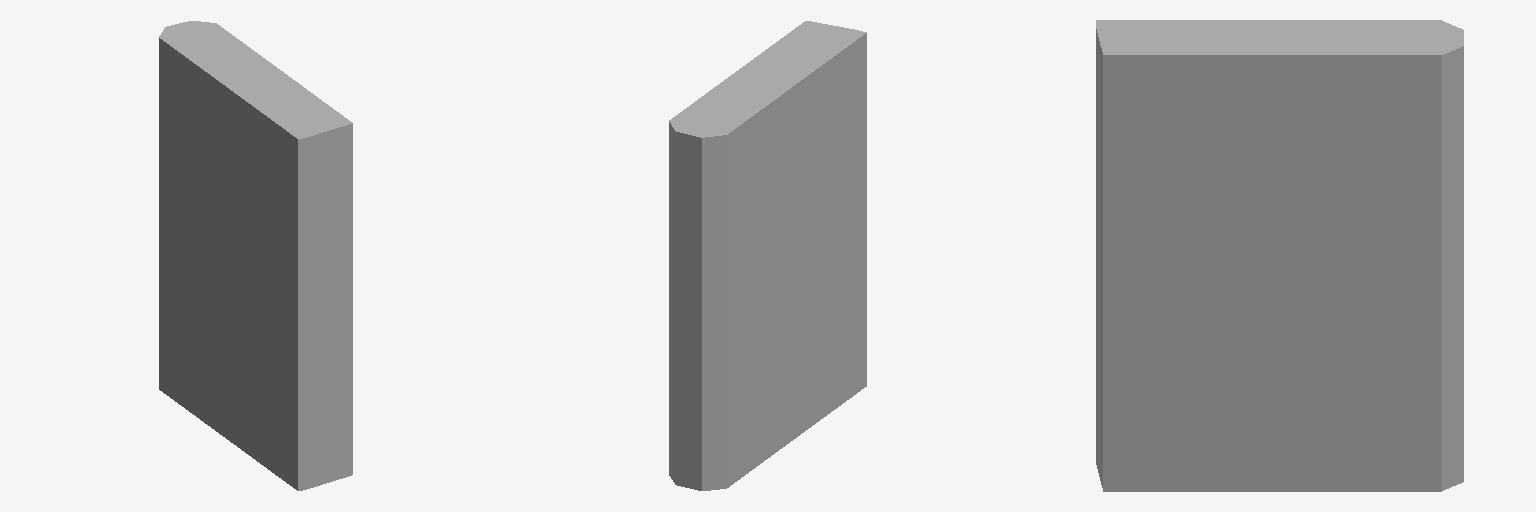
robot.urdf — root:
<robot name="root">
  <link name="link_ae53f4b5e543ec0ea27682420eb634b7_convex_piece_0">
    <inertial>
      <origin rpy="0 0 0" xyz="0 0 0"/>
      <mass value="2.15E-06"/>
      <inertia ixx="-3.93E-08" ixy="-1.22E-09" ixz="-6.86E-09" iyy="-3.96E-08" iyz="-6.94E-09" izz="-2.06E-09"/>
    </inertial>
    <visual>
      <origin rpy="0 0 0" xyz="0 0 0"/>
      <geometry>
        <mesh filename="ae53f4b5e543ec0ea27682420eb634b7_convex_piece_0.obj" scale="1.0000E+00"/>
      </geometry>
      <material name="">
        <color rgba="7.50E-01 7.50E-01 7.50E-01 1"/>
      </material>
    </visual>
    <collision>
      <origin rpy="0 0 0" xyz="0 0 0"/>
      <geometry>
        <mesh filename="ae53f4b5e543ec0ea27682420eb634b7_convex_piece_0.obj" scale="1.0000E+00"/>
      </geometry>
    </collision>
  </link>
</robot>

--- Render facts (derived) ---
The picture shows the robot from 3 angles, left to right: view 1: azimuth 30°, elevation 25°; view 2: azimuth 150°, elevation 25°; view 3: azimuth 270°, elevation 25°; orthographic projection.
Model root with 1 links and 0 joints (none), rooted at link_ae53f4b5e543ec0ea27682420eb634b7_convex_piece_0, posed all joints at 0.
Links seen in each view (by area): view 1: link_ae53f4b5e543ec0ea27682420eb634b7_convex_piece_0; view 2: link_ae53f4b5e543ec0ea27682420eb634b7_convex_piece_0; view 3: link_ae53f4b5e543ec0ea27682420eb634b7_convex_piece_0.
Boxes of the visible links, x1,y1,x2,y2 form: link_ae53f4b5e543ec0ea27682420eb634b7_convex_piece_0: (159, 21, 352, 490); link_ae53f4b5e543ec0ea27682420eb634b7_convex_piece_0: (669, 21, 866, 490); link_ae53f4b5e543ec0ea27682420eb634b7_convex_piece_0: (1096, 20, 1463, 491).
Bounding box of the posed robot: 0.0103 × 0.0459 × 0.06 m (x, y, z).
1 mesh visuals loaded from 1 distinct referenced files (1 OBJ).